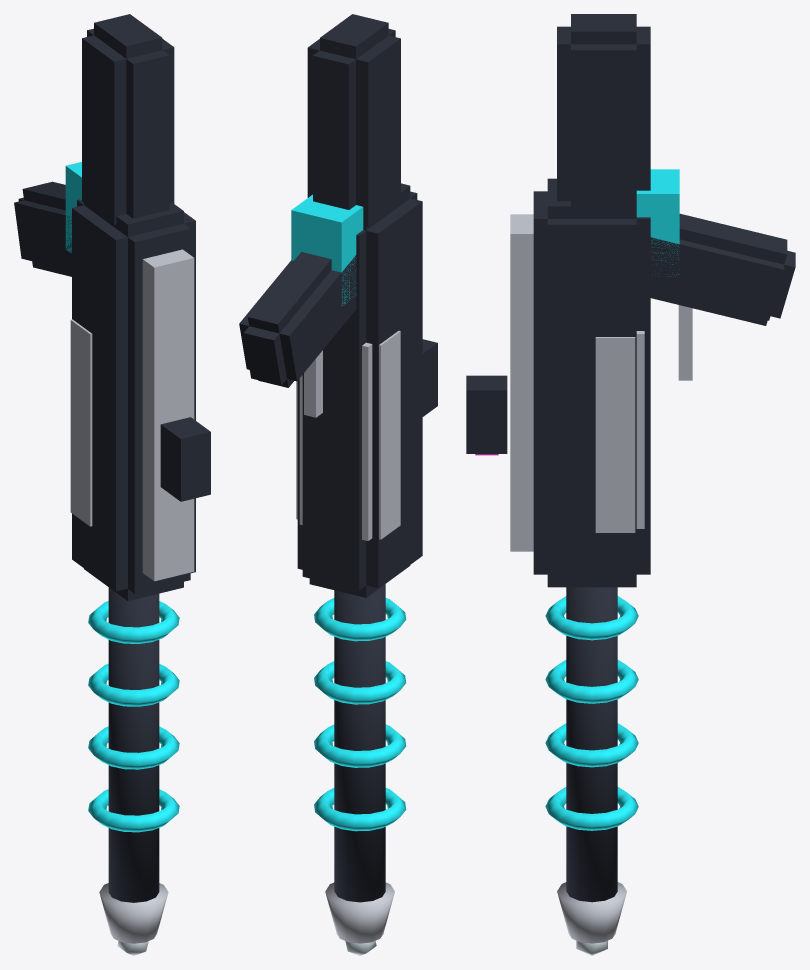
File: shooter-laser.glb
The picture shows the model from 3 angles, left to right: view 1: azimuth 30°, elevation 25°; view 2: azimuth 150°, elevation 25°; view 3: azimuth 270°, elevation 25°; orthographic projection.
Parts seen in each view (by area): view 1: Model Mesh; view 2: Model Mesh; view 3: Model Mesh.
Part boxes in pixels (left/top/right/bottom): Model Mesh: left=14, top=14, right=210, bottom=955; Model Mesh: left=239, top=14, right=437, bottom=955; Model Mesh: left=466, top=14, right=795, bottom=955.
Size of the model in its own units: 0.084 by 0.881 by 0.2816.
2 materials, 2 textured.
